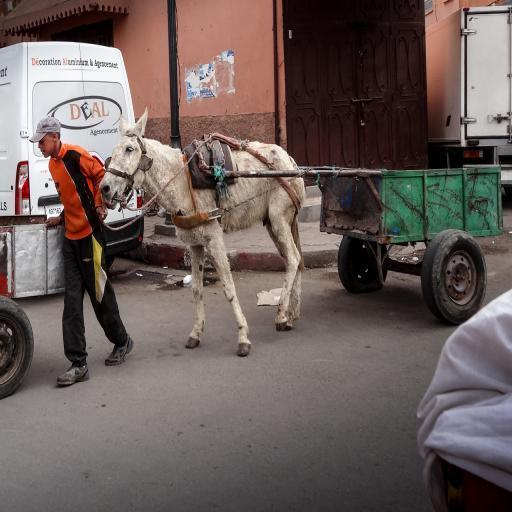horse: (97, 111, 307, 358)
